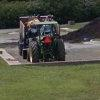Tractor: (13, 11, 71, 68)
